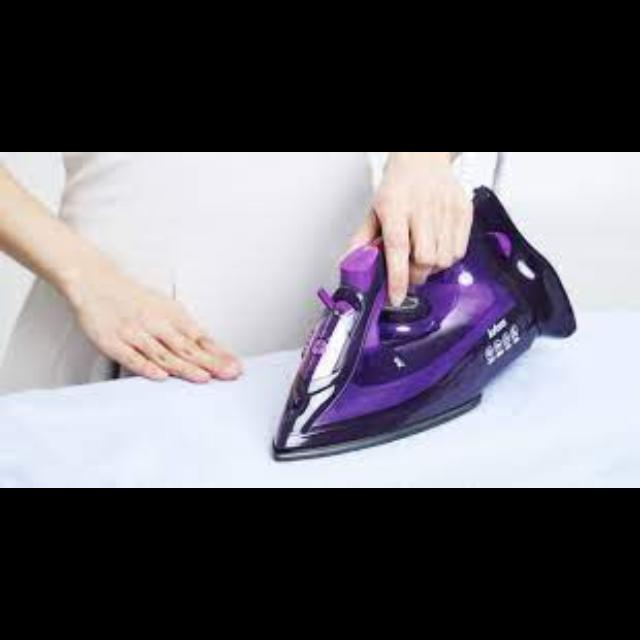Clothes-Iron: (308, 215, 520, 412)
